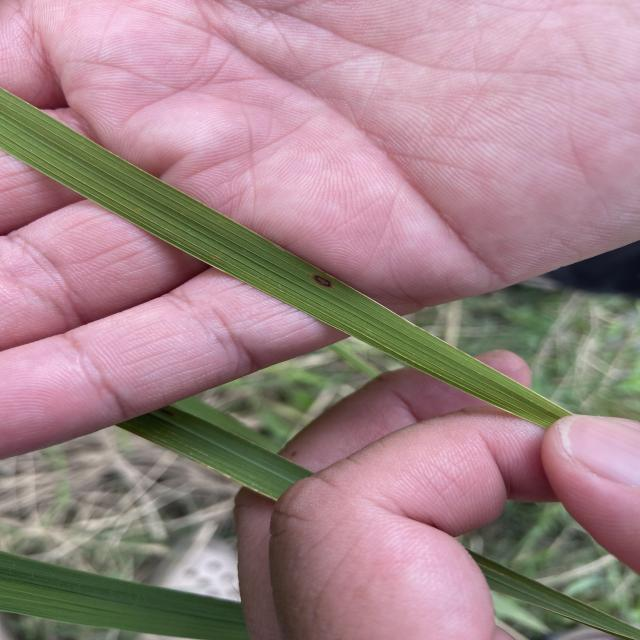Dao on: (312, 275, 333, 288)
